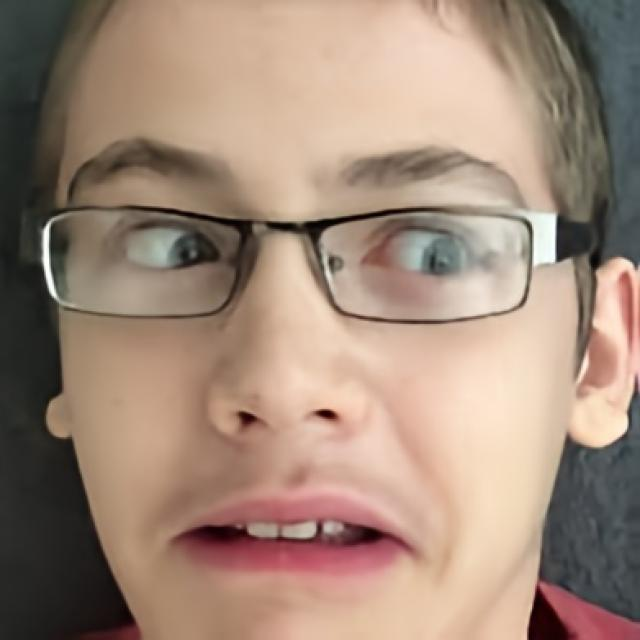fear: (48, 0, 582, 640)
